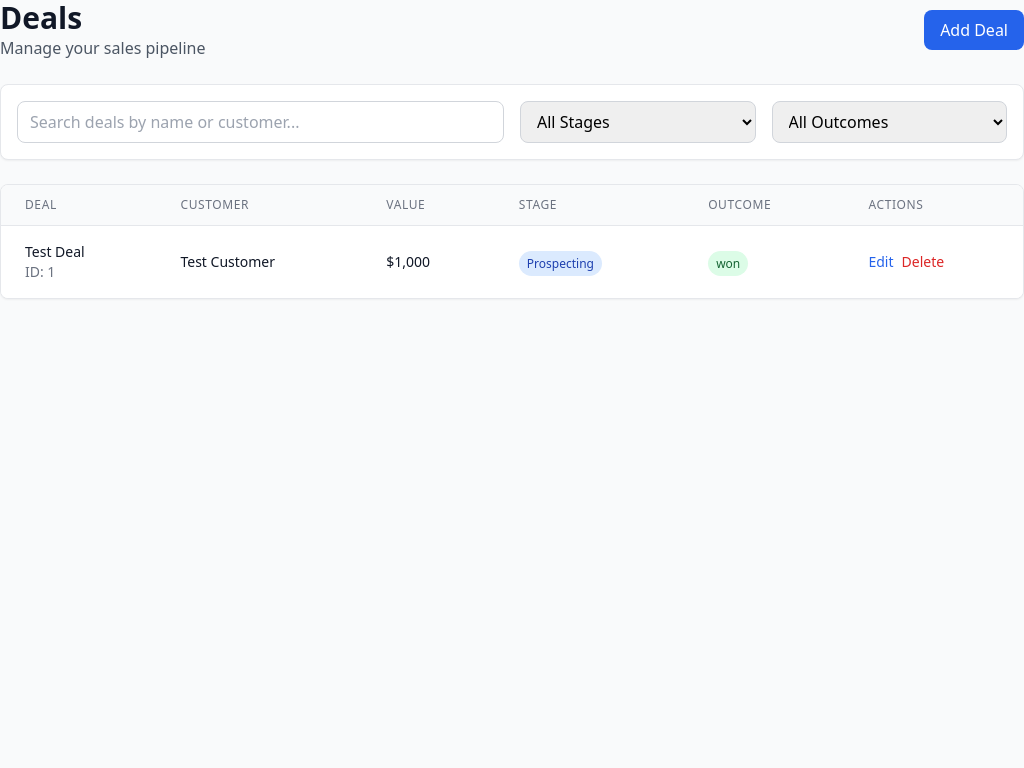
Test: DealsPage › opens and closes the Add Deal modal
The width and height of the screenshot is (1024, 768).
Click the button "Add Deal" at (974, 30), box [924,10,1023,50]
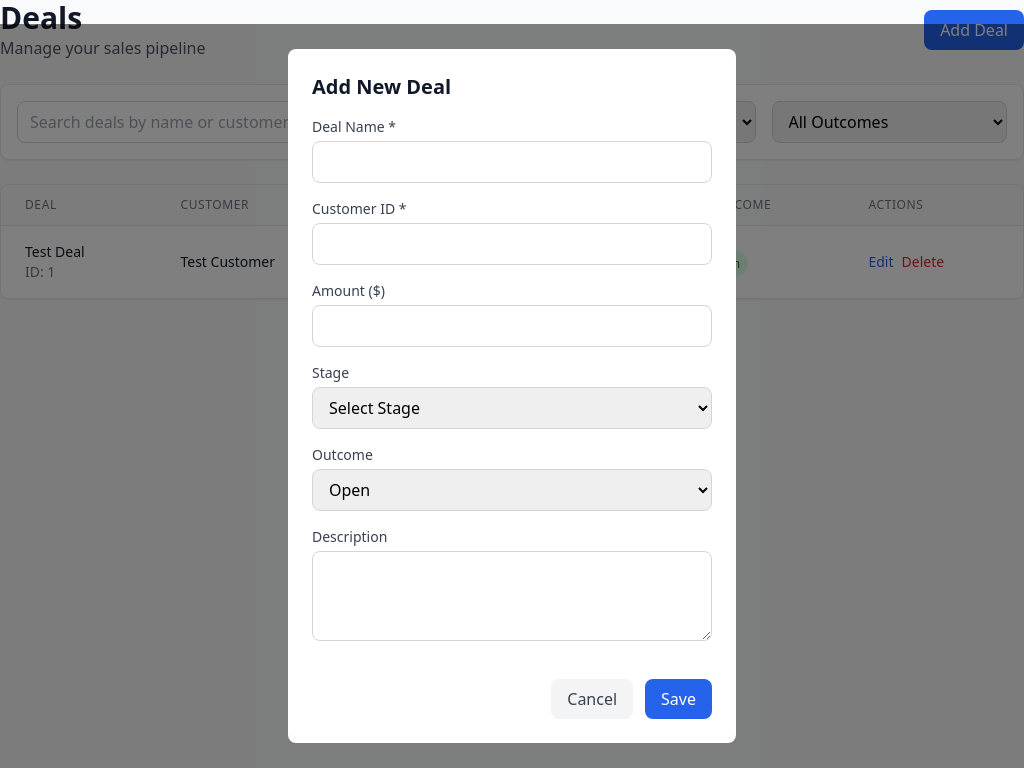
Expected: the heading "Add New Deal" is shown, [312,73,451,100]
Click the button "Cancel" at (592, 699), box [551,679,633,719]
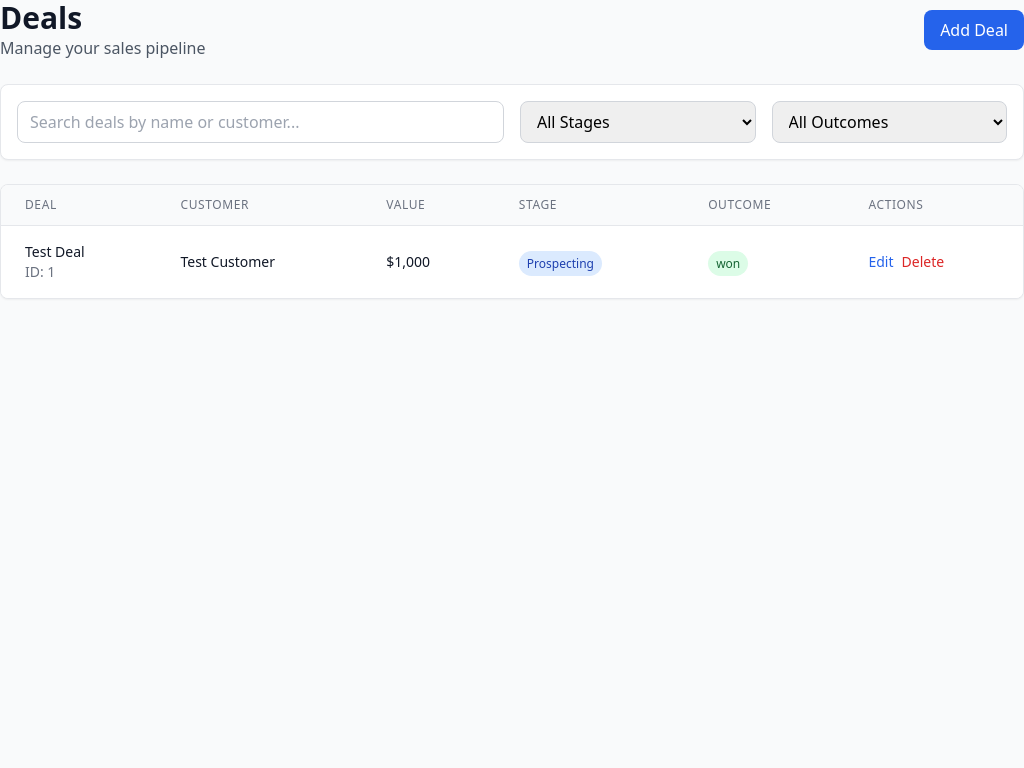
Expected: the heading "Add New Deal" is gone
